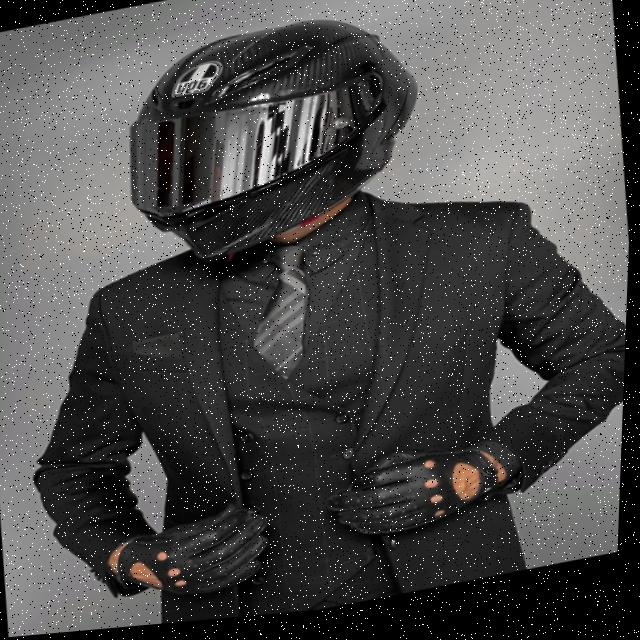helmet: (100, 0, 447, 296)
